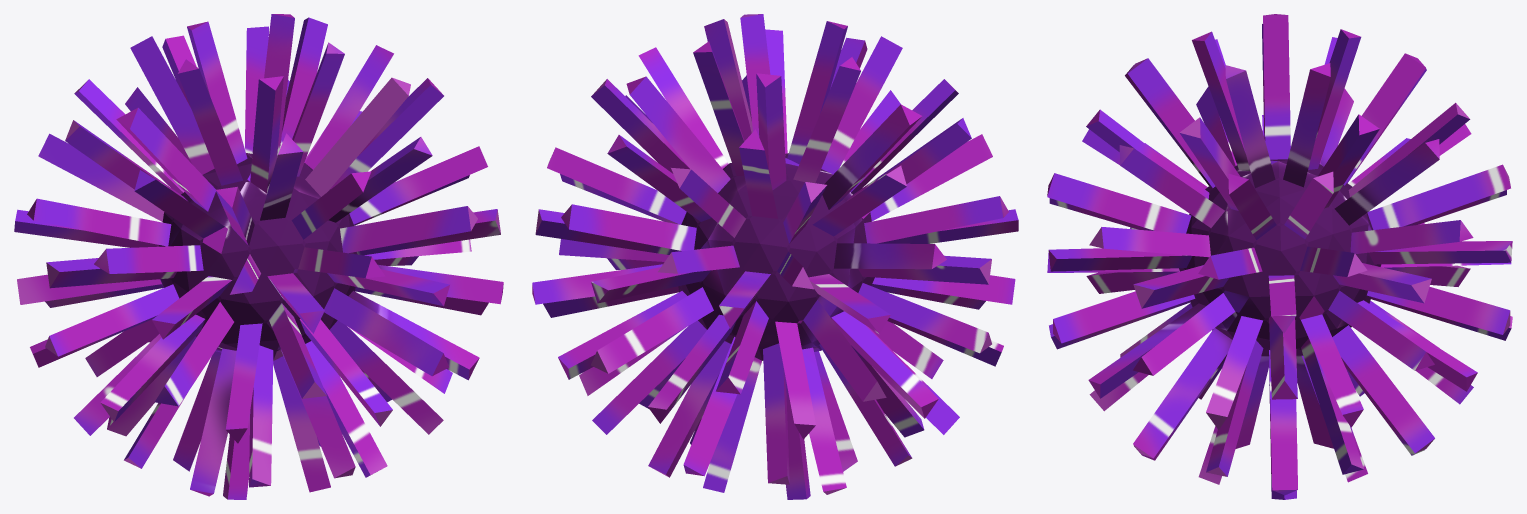
Rendered from LowPolySeaUrchinColored.fbx.
3 views of the same model, side by side, from view 1: azimuth 30°, elevation 25°; view 2: azimuth 150°, elevation 25°; view 3: azimuth 270°, elevation 25° (orthographic).
Parts seen in each view (by area): view 1: Icosphere; view 2: Icosphere; view 3: Icosphere.
Boxes of the visible parts, <box> form: Icosphere: <box>14,14,503,499</box>; Icosphere: <box>532,14,1018,499</box>; Icosphere: <box>1047,14,1512,499</box>.
Bounding box in the file's own units: 4630 × 4494 × 4464.
Materials: 1 (1 with a texture image).
